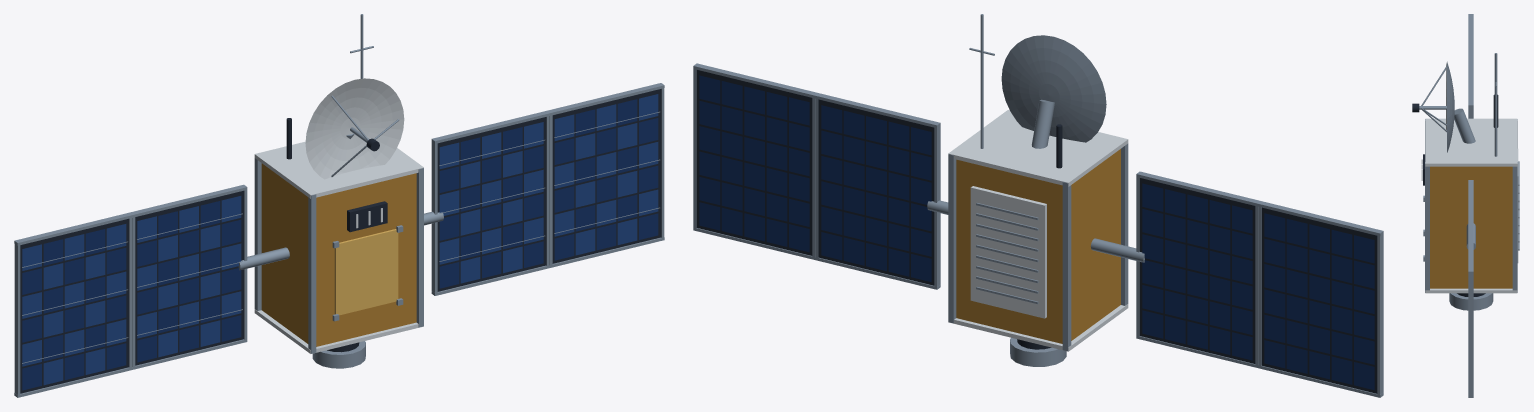
File: satellite-light.glb
3 views of the same model, side by side, from view 1: azimuth 30°, elevation 25°; view 2: azimuth 150°, elevation 25°; view 3: azimuth 270°, elevation 25° (orthographic). The views are drawn at different scales.
Parts seen in each view (by area): view 1: Satellite; view 2: Satellite; view 3: Satellite.
Boxes of the visible parts, <box> form: Satellite: <box>14,14,664,397</box>; Satellite: <box>693,14,1383,397</box>; Satellite: <box>1412,14,1519,397</box>.
Bounding box in the file's own units: 3.03 × 1.44 × 0.5318.
1 material, 1 textured.
